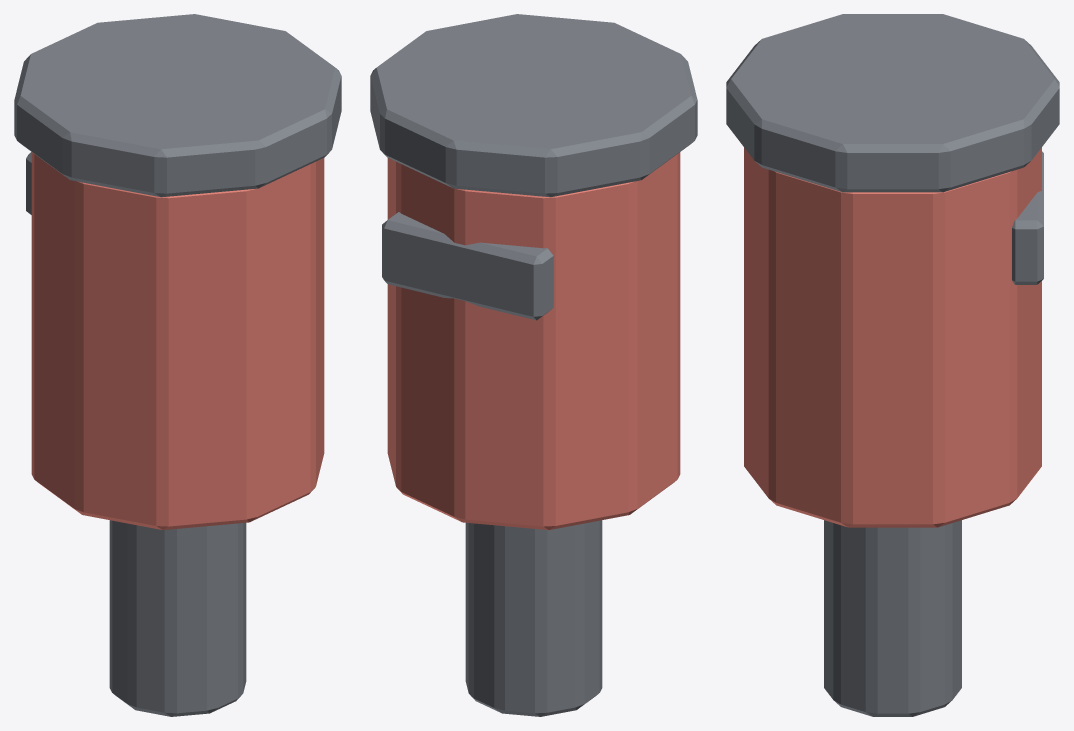
3 renders of one model, left to right at view 1: azimuth 30°, elevation 25°; view 2: azimuth 150°, elevation 25°; view 3: azimuth 270°, elevation 25°, orthographic.
Parts seen in each view (by area): view 1: 筒身, 顶盖.004, 柱; view 2: 筒身, 顶盖.004, 柱, 投递口.001; view 3: 筒身, 顶盖.004, 柱, 投递口.001.
Part boxes in pixels (x1,y1,x2,y2): 筒身: [31, 152, 324, 530]; 顶盖.004: [14, 14, 341, 197]; 柱: [109, 520, 246, 716]; 筒身: [387, 152, 680, 530]; 顶盖.004: [370, 14, 697, 197]; 柱: [465, 520, 602, 716]; 投递口.001: [382, 212, 553, 320]; 筒身: [744, 147, 1041, 527]; 顶盖.004: [726, 14, 1059, 192]; 柱: [824, 520, 961, 716]; 投递口.001: [1012, 151, 1043, 284].
Bounding box in the file's own units: 72.28 × 152 × 75.07.
